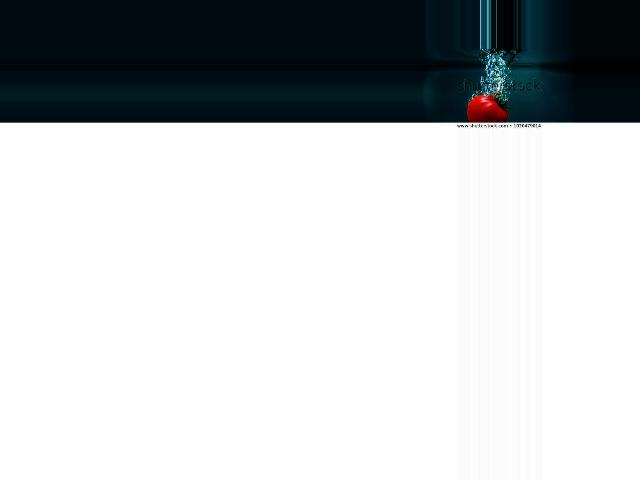tomato: (467, 94, 509, 122)
